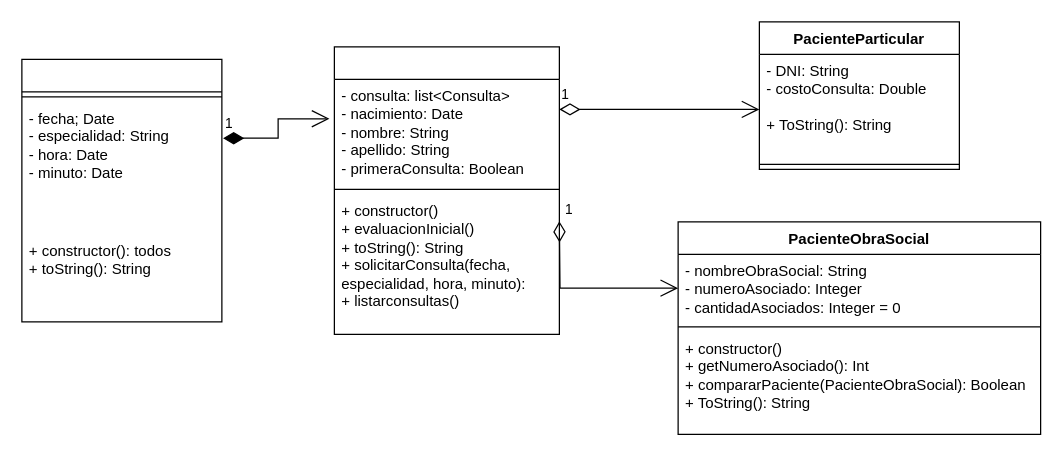
The diagram is 1063 pixels wide and 460 high, and some of its shapes have lost their labels. The shapes that lost their labels are listed below. From the top down, each one's box as (x1, y1, x2, y2) in pixels, then its label:
(21, 58, 222, 322): Consulta
(333, 46, 559, 334): Abstract<<Paciente>>
